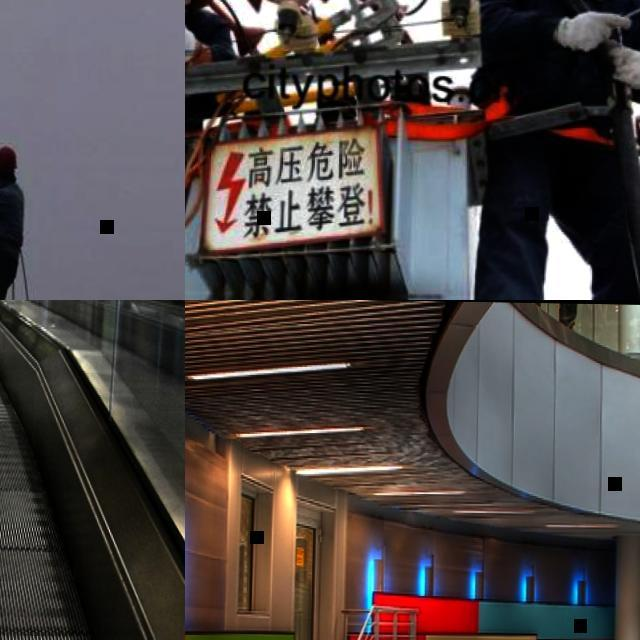helmet: (0, 146, 19, 171)
